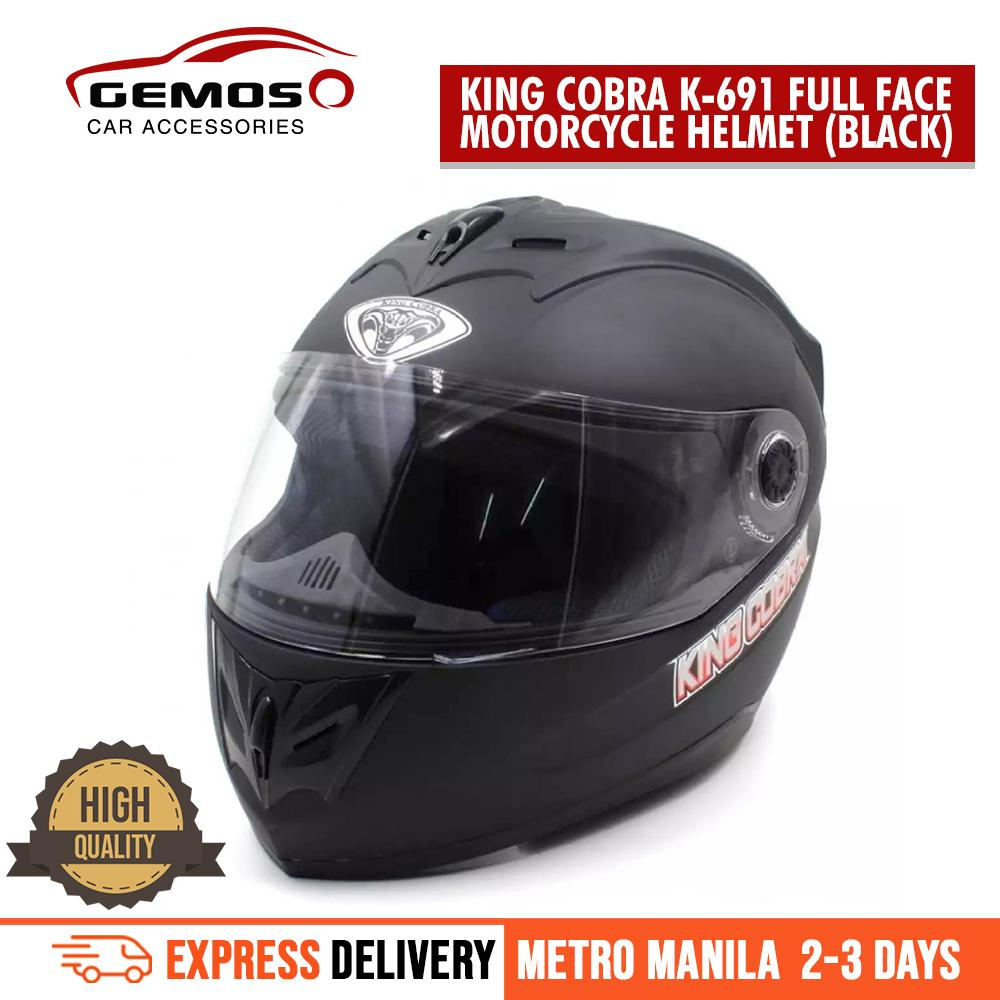with_helmet: (200, 183, 830, 893)
